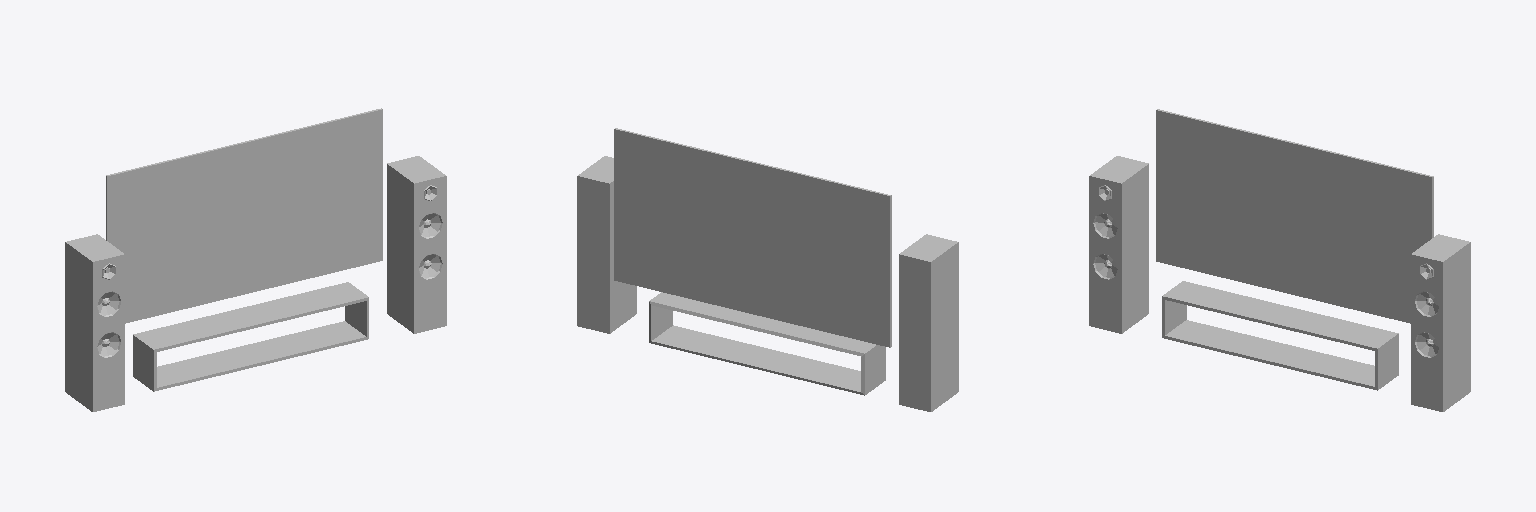
The model's file is tv_wall_001.obj.
3 views of the same model, side by side, from view 1: azimuth 30°, elevation 25°; view 2: azimuth 150°, elevation 25°; view 3: azimuth 330°, elevation 25° (orthographic).
Parts seen in each view (by area): view 1: tv_wall_001; view 2: tv_wall_001; view 3: tv_wall_001.
Part boxes in pixels (x1,y1,x2,y2): tv_wall_001: (65,108,446,411); tv_wall_001: (577,128,958,411); tv_wall_001: (1089,109,1470,411).
Bounding box in the file's own units: 3.04 × 1.69 × 0.4204.